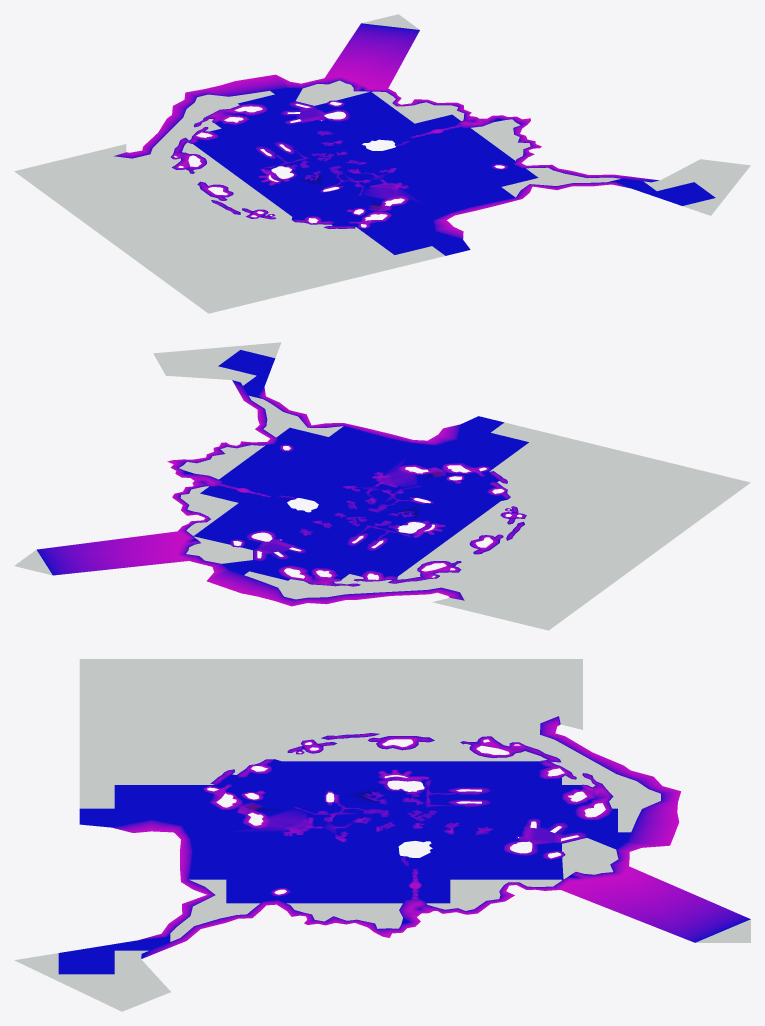
3 views of the same model, one above another, from view 1: azimuth 30°, elevation 25°; view 2: azimuth 150°, elevation 25°; view 3: azimuth 270°, elevation 25° (orthographic). The views are drawn at different scales.
Parts seen in each view (by area): view 1: G:\FFXIV-MapTools\exports\limsa\bg\ffxiv\sea_s1\twn\common\b (×3); view 2: G:\FFXIV-MapTools\exports\limsa\bg\ffxiv\sea_s1\twn\common\b (×3); view 3: G:\FFXIV-MapTools\exports\limsa\bg\ffxiv\sea_s1\twn\common\b (×3).
Part boxes in pixels (x1,y1,x2,y2): G:\FFXIV-MapTools\exports\limsa\bg\ffxiv\sea_s1\twn\common\b (×3): [14, 14, 750, 313]; G:\FFXIV-MapTools\exports\limsa\bg\ffxiv\sea_s1\twn\common\b (×3): [14, 342, 750, 630]; G:\FFXIV-MapTools\exports\limsa\bg\ffxiv\sea_s1\twn\common\b (×3): [14, 659, 750, 1011].
Size of the model in its own units: 1910 by 7.63e-06 by 1686.
